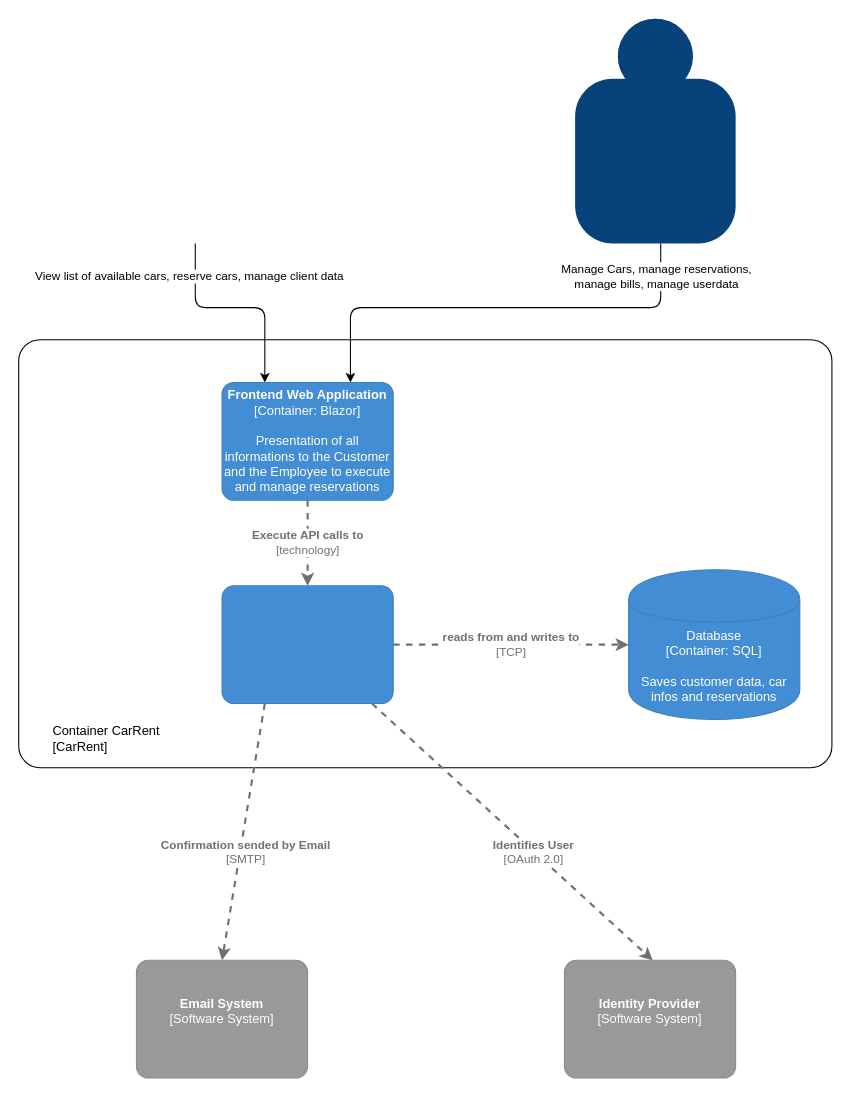
The diagram is 851 pixels wide and 1097 high, and some of its shapes have lost their labels. The shapes that lost their labels are listed below. From the top down, each one's centre as x and y in pixels, then its label:
At (655,130): "Employee [Person] SSO".
At (307,644): "Backend [Container: C#]".
